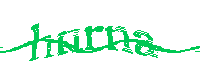a: (133, 30, 159, 57)
h: (30, 23, 51, 62)
n: (106, 24, 134, 54), (57, 28, 82, 55)
r: (84, 26, 104, 53)
